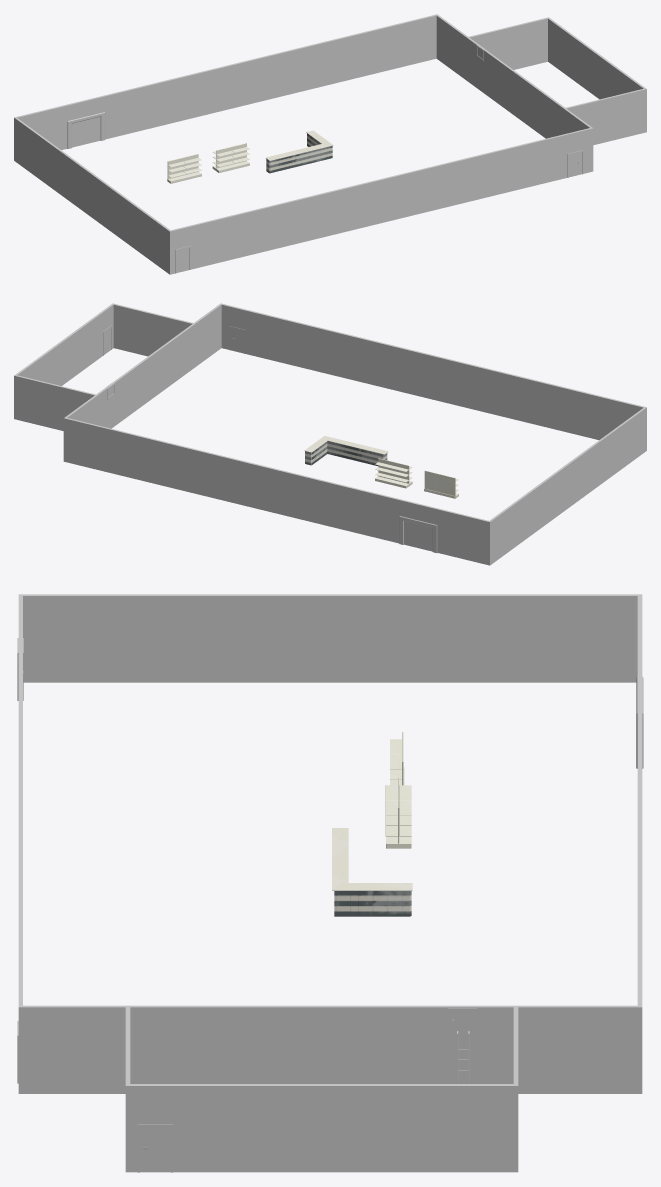
File: Market_Test.fbx
3 renders of one model, top to bottom at view 1: azimuth 30°, elevation 25°; view 2: azimuth 150°, elevation 25°; view 3: azimuth 270°, elevation 25°, orthographic. The views are drawn at different scales.
Parts seen in each view (by area): view 1: Structure, table; view 2: Structure, table, polySurface60; view 3: Structure, table.
Boxes of the visible parts, bbox=[...] form: Structure: bbox=[14, 14, 646, 274]; table: bbox=[266, 130, 333, 173]; Structure: bbox=[14, 303, 646, 565]; table: bbox=[304, 436, 388, 465]; polySurface60: bbox=[424, 470, 455, 496]; Structure: bbox=[17, 594, 643, 1172]; table: bbox=[332, 828, 412, 916].
Bounding box in the file's own units: 4058 × 334 × 2181.
